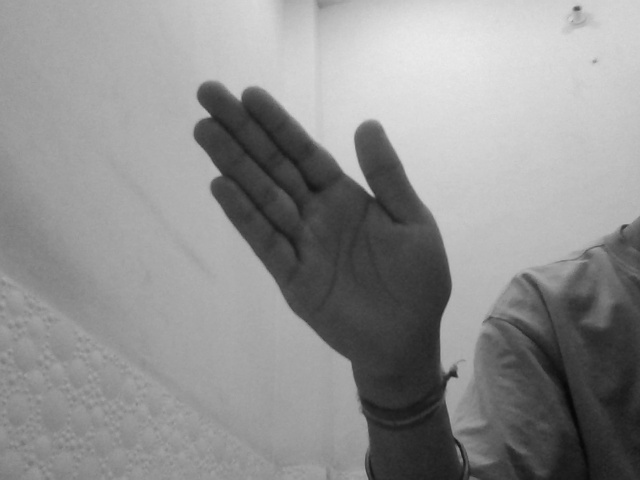Hello: (191, 78, 457, 378)
